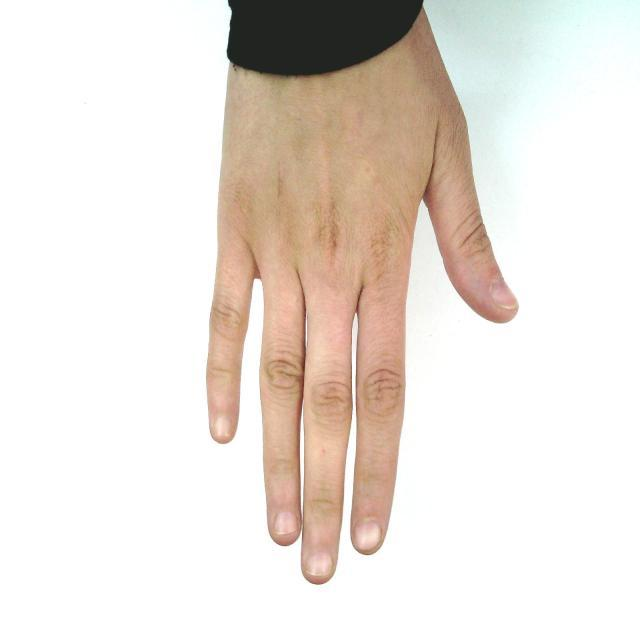Fingernail: (492, 278, 518, 310), (356, 521, 380, 548), (308, 553, 331, 576), (275, 512, 297, 534), (215, 418, 232, 436)
